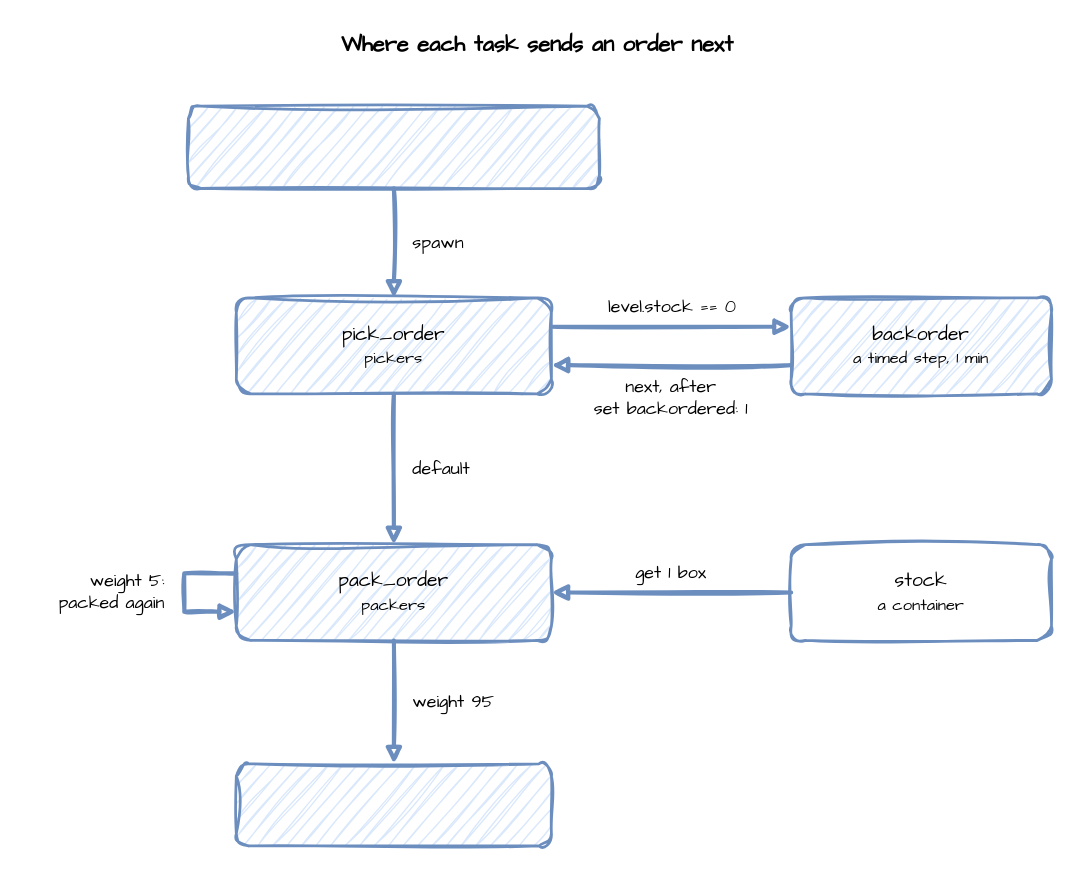
The diagram is 1075 pixels wide and 870 high, and some of its shapes have lost their labels. The centre of each missing label's shape, as x and y in pixels:
"arrivals orders and express each order starts with attributes {express}" belongs at (x=393, y=146).
"ship_order the flow ends" belongs at (x=393, y=804).
